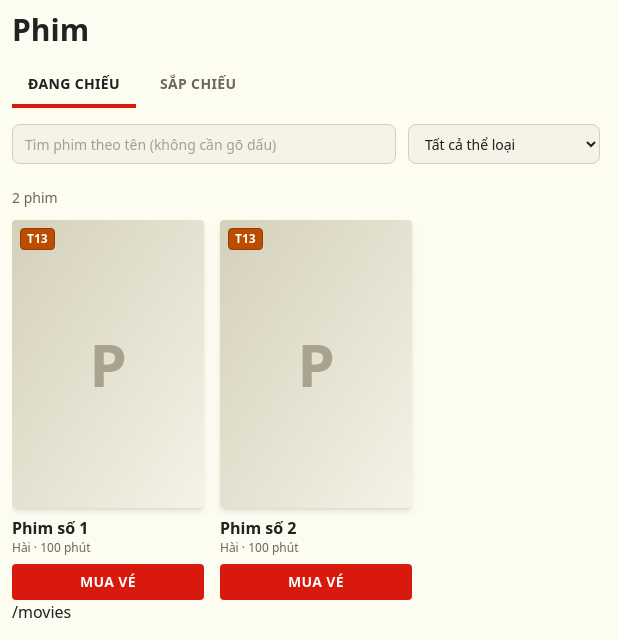
Test: MoviesPage (P02) › tab "Sắp chiếu" gửi COMING_SOON và ghi lên URL
The image size is (617, 640).
Expected: the link "Phim số 1" is shown, [12,517,88,539]
Click the tab "Sắp chiếu".
click(198, 86)  # box [144,64,252,108]
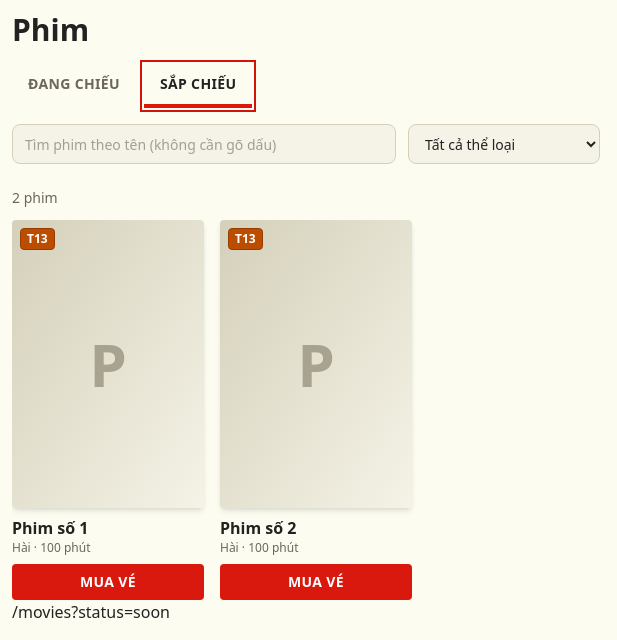
Result: the text with test id "where" shows "status=soon" at [71,601,170,623]
